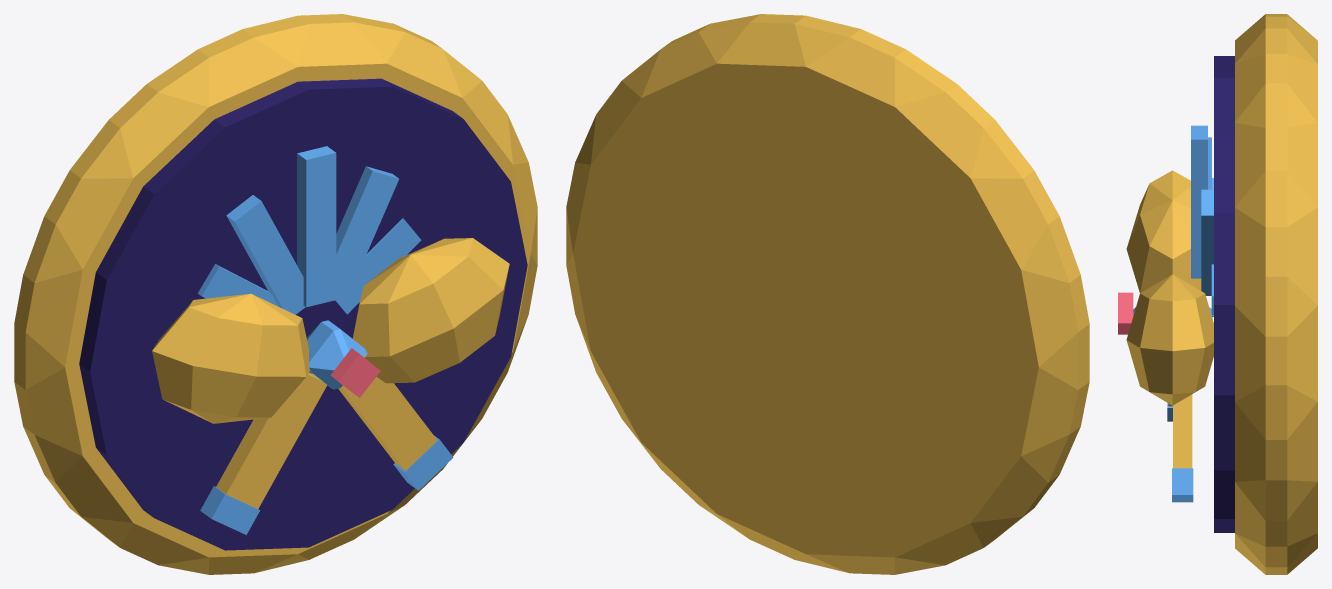
The model's file is CleanACat_Prop_BowButtonSkyGolden.fbx.
3 views of the same model, side by side, from view 1: azimuth 30°, elevation 25°; view 2: azimuth 150°, elevation 25°; view 3: azimuth 270°, elevation 25° (orthographic). The views are drawn at different scales.
Visible parts, largest first — view 1: CleanACat_Prop_BowButtonSkyGolden, CleanACat_Prop_BowButtonSkyGolden_Gem_Glow; view 2: CleanACat_Prop_BowButtonSkyGolden; view 3: CleanACat_Prop_BowButtonSkyGolden, CleanACat_Prop_BowButtonSkyGolden_Gem_Glow.
Boxes of the visible parts, left/top/right/bottom form: CleanACat_Prop_BowButtonSkyGolden: left=14, top=14, right=537, bottom=574; CleanACat_Prop_BowButtonSkyGolden_Gem_Glow: left=330, top=348, right=380, bottom=397; CleanACat_Prop_BowButtonSkyGolden: left=566, top=14, right=1089, bottom=574; CleanACat_Prop_BowButtonSkyGolden: left=1126, top=14, right=1317, bottom=574; CleanACat_Prop_BowButtonSkyGolden_Gem_Glow: left=1118, top=292, right=1133, bottom=334.
Size of the model in its own units: 1.08 by 1.08 by 0.3851.
Materials: 1 (1 with a texture image).
